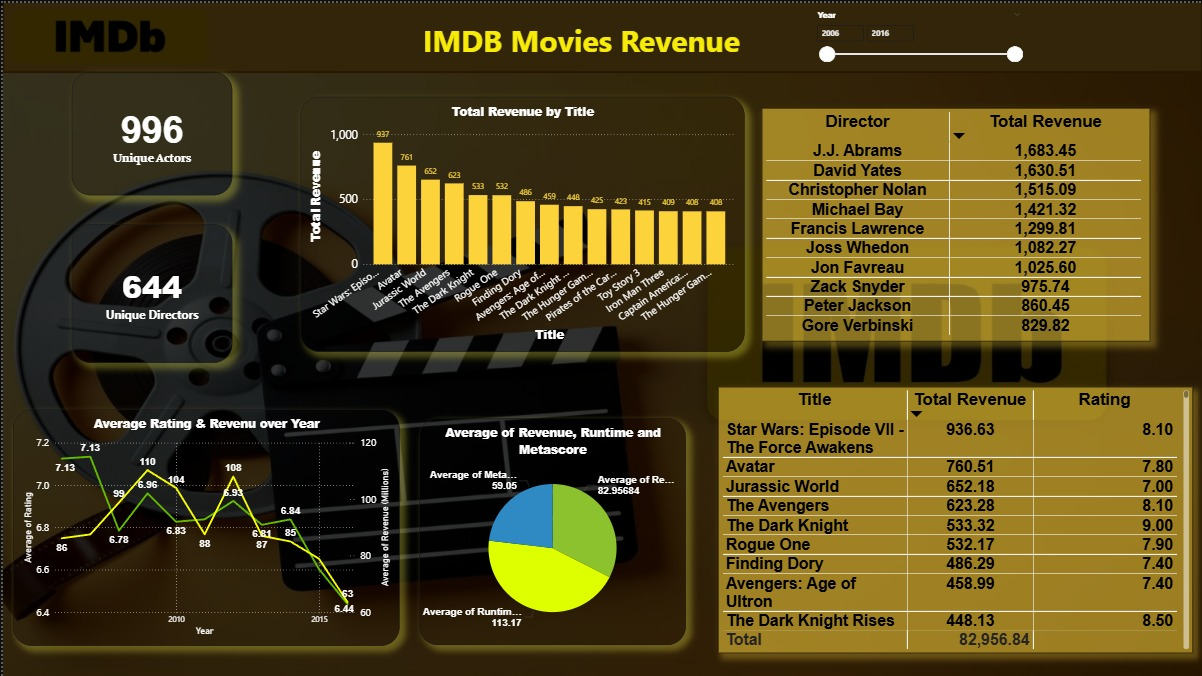

The dashboard page shown, as its layout file describes it:
{"tool":"powerbi","page":{"name":"Page 3","canvas":[1920,1080],"ordinal":2},"visuals":[{"type":"tableEx","fields":{"Values":["IMDB-Movie-Data.Director","IMDB-Movie-Data.Total Revenue"]},"box":[1213,167.4,621.7,373.9],"z":0},{"type":"clusteredColumnChart","fields":{"Category":["IMDB-Movie-Data.Title"],"Y":["IMDB-Movie-Data.Total Revenue"]},"box":[475,150,710,408.3],"z":1000},{"type":"tableEx","fields":{"Values":["IMDB-Movie-Data.Title","IMDB-Movie-Data.Total Revenue","IMDB-Movie-Data.Rating"]},"box":[1144,614,760,426],"z":2000},{"type":"card","fields":{"Values":["IMDB-Movie-Data.top performers"]},"box":[110.9,110.9,256.5,197.8],"z":3000},{"type":"card","fields":{"Values":["IMDB-Movie-Data.Unique Directors"]},"box":[110.9,354.3,256.5,221.7],"z":4000},{"type":"textbox","box":[634.5,22.4,582.8,113.8],"z":5000},{"type":"pieChart","title":"Average of Revenue, Runtime and Metascore","fields":{"Y":["IMDB-Movie-Data.Revenue (Millions)","IMDB-Movie-Data.Runtime (Minutes)","IMDB-Movie-Data.Metascore"]},"box":[665.2,663,426.1,363],"z":6000},{"type":"lineChart","title":"Average Rating & Revenu over Year","fields":{"Y":["IMDB-Movie-Data.Rating"],"Category":["IMDB-Movie-Data.Year"],"Y2":["IMDB-Movie-Data.Revenue (Millions)"]},"box":[16,650,618,378],"z":7000},{"type":"slicer","fields":{"Values":["IMDB-Movie-Data.Year"]},"box":[1290,5,350,106.7],"z":8000}]}

Visuals, with their boxes in screenshot pixels (x1, y1, x2, y2), scaled from the page's 1920x1080 canvas onto the 1202x676 screenshot:
tableEx - IMDB-Movie-Data.Director x IMDB-Movie-Data.Total Revenue: {"x1": 759, "y1": 105, "x2": 1149, "y2": 339}
clusteredColumnChart - IMDB-Movie-Data.Title x IMDB-Movie-Data.Total Revenue: {"x1": 297, "y1": 94, "x2": 742, "y2": 349}
tableEx - IMDB-Movie-Data.Title x IMDB-Movie-Data.Total Revenue: {"x1": 716, "y1": 384, "x2": 1192, "y2": 651}
card - IMDB-Movie-Data.top performers: {"x1": 69, "y1": 69, "x2": 230, "y2": 193}
card - IMDB-Movie-Data.Unique Directors: {"x1": 69, "y1": 222, "x2": 230, "y2": 361}
textbox: {"x1": 397, "y1": 14, "x2": 762, "y2": 85}
"Average of Revenue, Runtime and Metascore" pieChart: {"x1": 416, "y1": 415, "x2": 683, "y2": 642}
"Average Rating & Revenu over Year" lineChart: {"x1": 10, "y1": 407, "x2": 397, "y2": 643}
slicer - IMDB-Movie-Data.Year: {"x1": 808, "y1": 3, "x2": 1027, "y2": 70}
